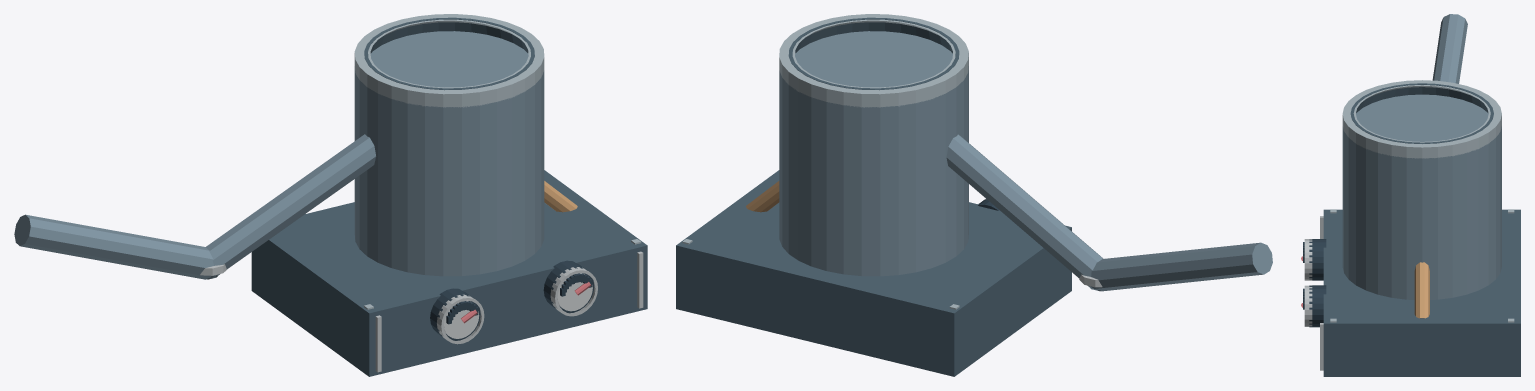
File: 38_L73_WasteSlurryCollectionModule.glb
3 views of the same model, side by side, from view 1: azimuth 30°, elevation 25°; view 2: azimuth 150°, elevation 25°; view 3: azimuth 270°, elevation 25° (orthographic). The views are drawn at different scales.
Visible parts, largest first — view 1: WasteSlurryCollectionModule_Node_0007, WasteSlurryCollectionModule_Node_0000, WasteSlurryCollectionModule_Node_0012, WasteSlurryCollectionModule_Node_0013, WasteSlurryCollectionModule_Node_0010, WasteSlurryCollectionModule_Node_0011, WasteSlurryCollectionModule_Node_0033, WasteSlurryCollectionModule_Node_0018, WasteSlurryCollectionModule_Node_0017, WasteSlurryCollectionModule_Node_0032, WasteSlurryCollectionModule_Node_0034, WasteSlurryCollectionModule_Node_0019 (+1 smaller); view 2: WasteSlurryCollectionModule_Node_0000, WasteSlurryCollectionModule_Node_0007, WasteSlurryCollectionModule_Node_0013, WasteSlurryCollectionModule_Node_0010, WasteSlurryCollectionModule_Node_0012, WasteSlurryCollectionModule_Node_0011, WasteSlurryCollectionModule_Node_0016; view 3: WasteSlurryCollectionModule_Node_0007, WasteSlurryCollectionModule_Node_0000, WasteSlurryCollectionModule_Node_0010, WasteSlurryCollectionModule_Node_0011, WasteSlurryCollectionModule_Node_0012, WasteSlurryCollectionModule_Node_0016, WasteSlurryCollectionModule_Node_0032, WasteSlurryCollectionModule_Node_0017, WasteSlurryCollectionModule_Node_0018, WasteSlurryCollectionModule_Node_0033.
Boxes of the visible parts, x1,y1,x2,y2 form: WasteSlurryCollectionModule_Node_0007: [354, 31, 544, 276]; WasteSlurryCollectionModule_Node_0000: [251, 170, 647, 376]; WasteSlurryCollectionModule_Node_0012: [14, 214, 214, 279]; WasteSlurryCollectionModule_Node_0013: [205, 134, 375, 275]; WasteSlurryCollectionModule_Node_0010: [354, 14, 544, 107]; WasteSlurryCollectionModule_Node_0011: [364, 17, 534, 90]; WasteSlurryCollectionModule_Node_0033: [550, 267, 597, 316]; WasteSlurryCollectionModule_Node_0018: [437, 294, 484, 344]; WasteSlurryCollectionModule_Node_0017: [430, 288, 480, 340]; WasteSlurryCollectionModule_Node_0032: [543, 260, 594, 313]; WasteSlurryCollectionModule_Node_0034: [557, 273, 592, 311]; WasteSlurryCollectionModule_Node_0019: [444, 300, 479, 338]; WasteSlurryCollectionModule_Node_0000: [676, 170, 1071, 376]; WasteSlurryCollectionModule_Node_0007: [779, 31, 968, 276]; WasteSlurryCollectionModule_Node_0013: [946, 134, 1103, 286]; WasteSlurryCollectionModule_Node_0010: [779, 14, 968, 107]; WasteSlurryCollectionModule_Node_0012: [1091, 242, 1272, 291]; WasteSlurryCollectionModule_Node_0011: [788, 17, 959, 90]; WasteSlurryCollectionModule_Node_0016: [746, 181, 779, 212]; WasteSlurryCollectionModule_Node_0007: [1342, 94, 1501, 299]; WasteSlurryCollectionModule_Node_0000: [1323, 209, 1520, 376]; WasteSlurryCollectionModule_Node_0010: [1342, 80, 1501, 158]; WasteSlurryCollectionModule_Node_0011: [1350, 83, 1493, 143]; WasteSlurryCollectionModule_Node_0012: [1432, 14, 1467, 83]; WasteSlurryCollectionModule_Node_0016: [1414, 262, 1429, 318]; WasteSlurryCollectionModule_Node_0032: [1309, 285, 1326, 327]; WasteSlurryCollectionModule_Node_0017: [1309, 239, 1326, 280]; WasteSlurryCollectionModule_Node_0018: [1304, 239, 1312, 280]; WasteSlurryCollectionModule_Node_0033: [1304, 285, 1312, 326].
Size of the model in its own units: 2.82 by 1.2 by 1.16.
